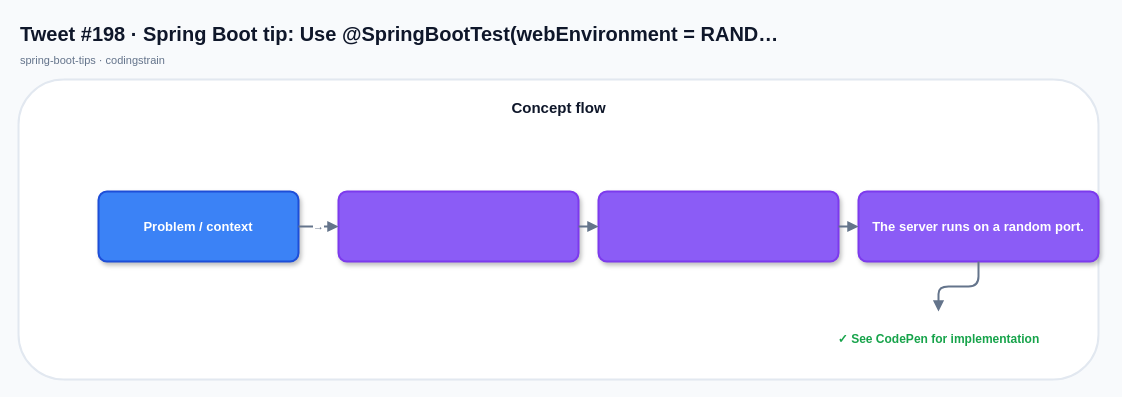
The diagram is 1122 pixels wide and 397 high, and some of its shapes have lost their labels. Here are the shapes that lost their labels. From the top down, the centre of each, then its label:
At (459,227): "💡 Spring Boot tip: Use @SpringBootTest(webEnvironment = RANDOM_PORT) f".
At (719,227): "Starts a real embedded server".
